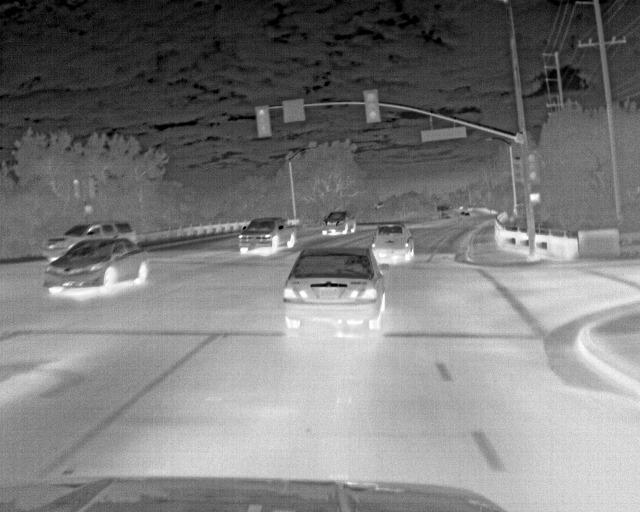car: (283, 246, 386, 330), (44, 238, 148, 295), (46, 220, 136, 262), (237, 216, 296, 254), (371, 224, 414, 261), (322, 211, 356, 236)
light: (366, 93, 378, 121), (257, 109, 268, 135), (528, 153, 538, 180), (513, 157, 522, 183), (72, 179, 80, 198), (529, 193, 540, 204), (82, 205, 94, 215), (92, 178, 99, 195)
sign: (421, 127, 466, 142), (283, 98, 305, 123)
